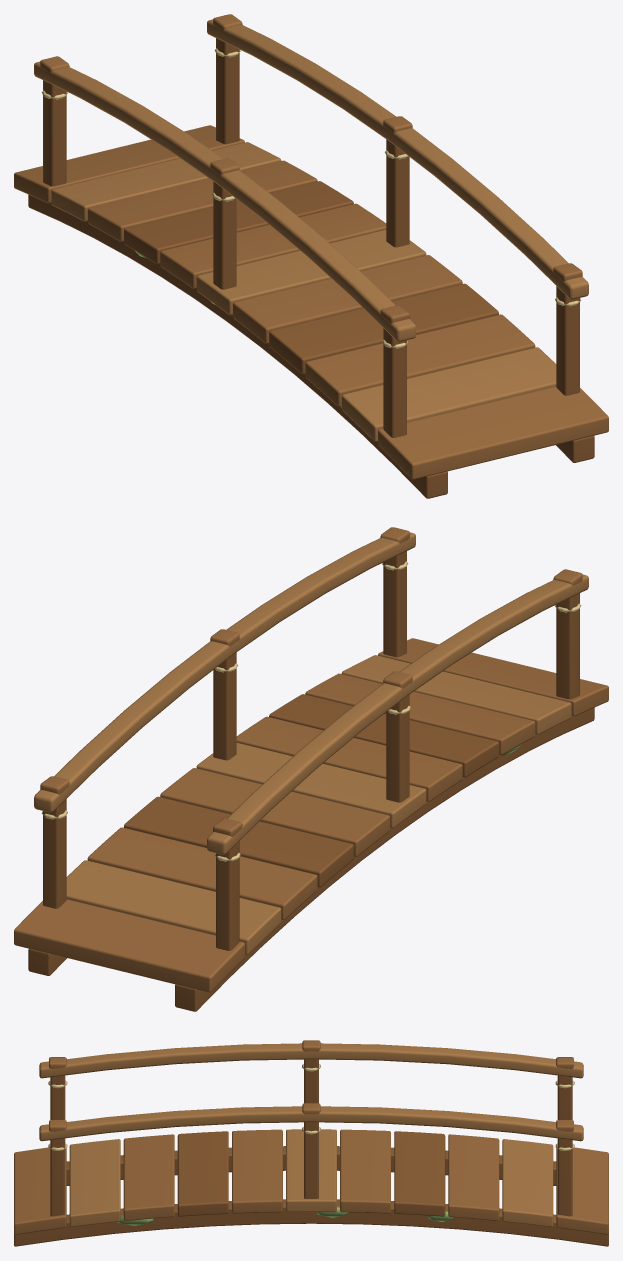
File: prop-footbridge.glb
3 views of the same model, one above another, from view 1: azimuth 30°, elevation 25°; view 2: azimuth 150°, elevation 25°; view 3: azimuth 270°, elevation 25° (orthographic). The views are drawn at different scales.
Visible parts, largest first — view 1: rails, plank_00, plank_01, plank_02, plank_03, plank_04, plank_05, plank_06, plank_08, plank_07, plank_09, beam_l (+2 smaller); view 2: rails, plank_10, plank_09, plank_08, plank_07, plank_06, plank_05, plank_04, plank_02, plank_03, plank_01, beam_l (+2 smaller); view 3: rails, beam_r, plank_03, plank_07, plank_02, plank_08, plank_01, plank_09, plank_04, plank_06, plank_00, plank_10 (+2 smaller).
Part boxes in pixels (box(x1,y1,x2,y2)): rails: box(34, 14, 588, 437); plank_00: box(378, 386, 608, 479); plank_01: box(341, 347, 556, 441); plank_02: box(305, 314, 535, 406); plank_03: box(269, 283, 498, 374); plank_04: box(232, 255, 462, 343); plank_05: box(196, 230, 426, 315); plank_06: box(160, 203, 386, 288); plank_08: box(87, 160, 317, 241); plank_07: box(124, 181, 353, 264); plank_09: box(51, 142, 281, 221); beam_l: box(28, 194, 447, 498); rails: box(34, 527, 588, 950); plank_10: box(14, 899, 244, 992); plank_09: box(66, 860, 281, 954); plank_08: box(87, 827, 317, 919); plank_07: box(124, 796, 353, 887); plank_06: box(160, 768, 390, 856); plank_05: box(196, 743, 426, 828); plank_04: box(236, 716, 462, 801); plank_02: box(305, 673, 535, 754); plank_03: box(269, 694, 498, 777); plank_01: box(341, 655, 571, 734); beam_l: box(175, 707, 594, 1011); rails: box(39, 1040, 583, 1216); beam_r: box(14, 1199, 608, 1246); plank_03: box(177, 1131, 228, 1216); plank_07: box(394, 1131, 445, 1216); plank_02: box(123, 1134, 174, 1220); plank_08: box(448, 1134, 499, 1220); plank_01: box(69, 1139, 120, 1226); plank_09: box(502, 1139, 553, 1226); plank_04: box(232, 1129, 282, 1213); plank_06: box(340, 1129, 390, 1213); plank_00: box(14, 1147, 66, 1234); plank_10: box(556, 1147, 608, 1234).
Bounding box in the file's own units: 1.2 × 1.11 × 4.2.
